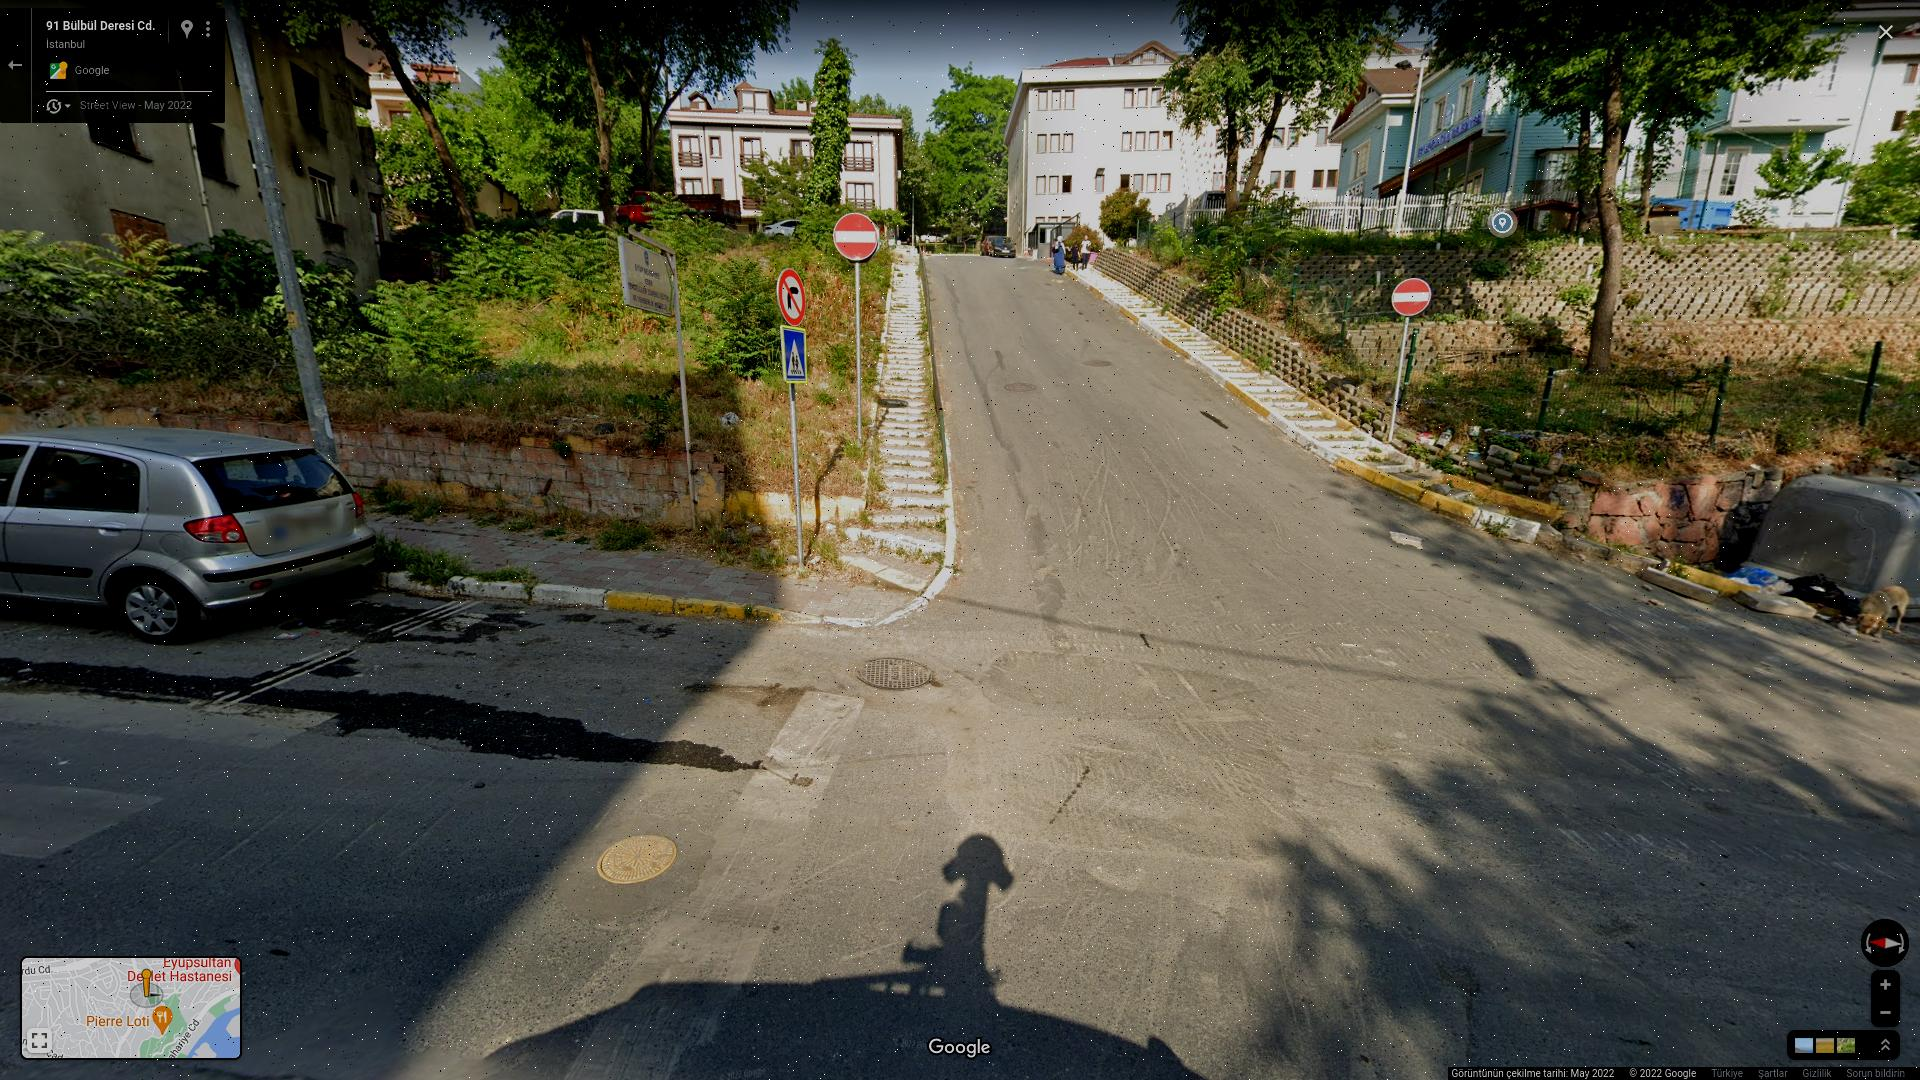rightturnsareforbidden: (777, 269, 808, 327)
